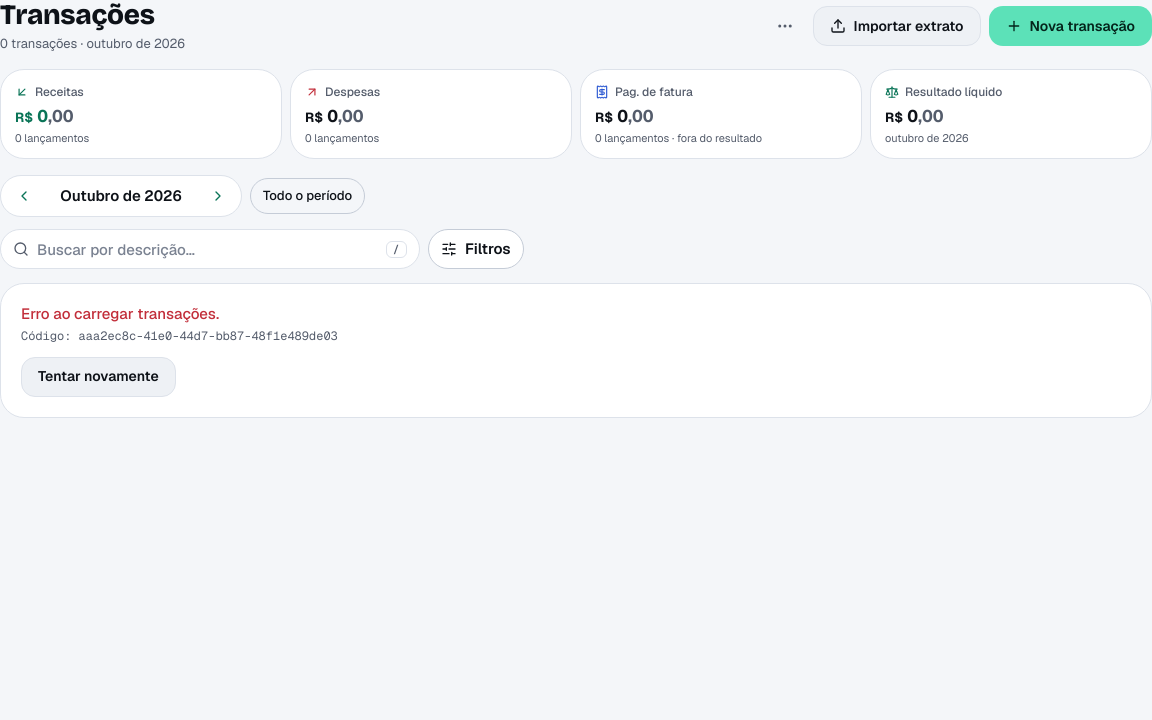
Test case: TransactionsPage › create transaction form shows required description validation error
The width and height of the screenshot is (1152, 720).
Click the button "Nova transação" at (1070, 26), box [988,6,1151,46]
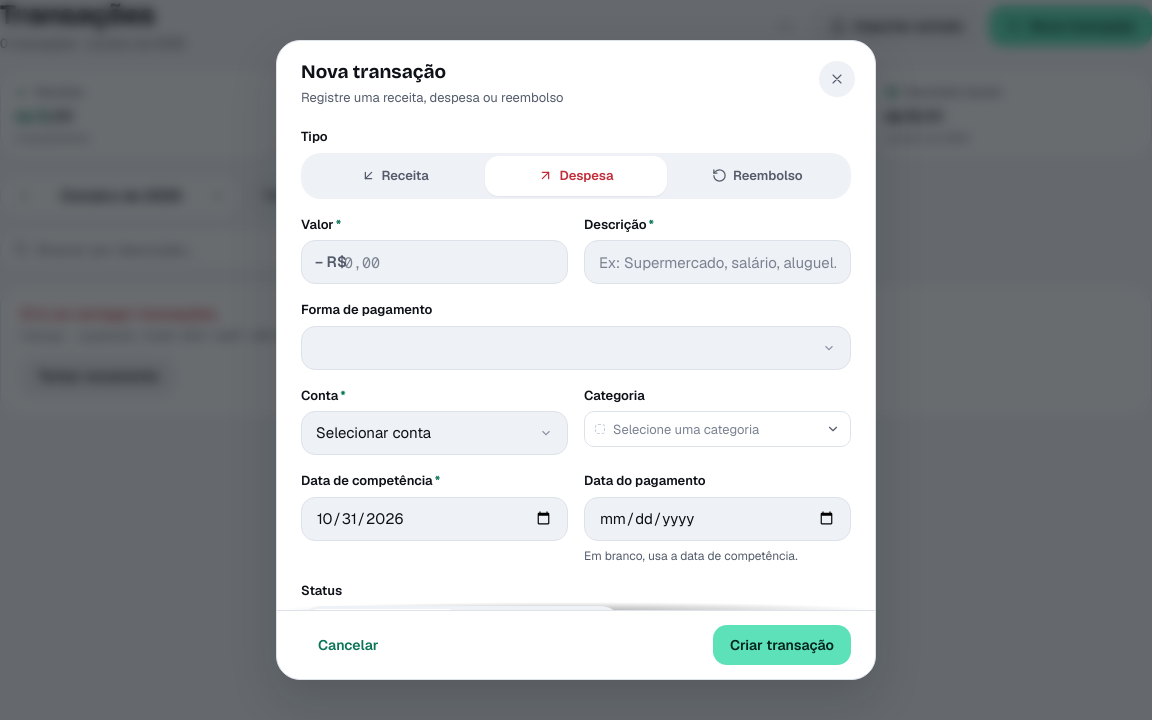
Check: the dialog is shown, box [276,40,876,680]
Clear the field labelled "Descrição*" at (718, 262), box [584,240,851,284]
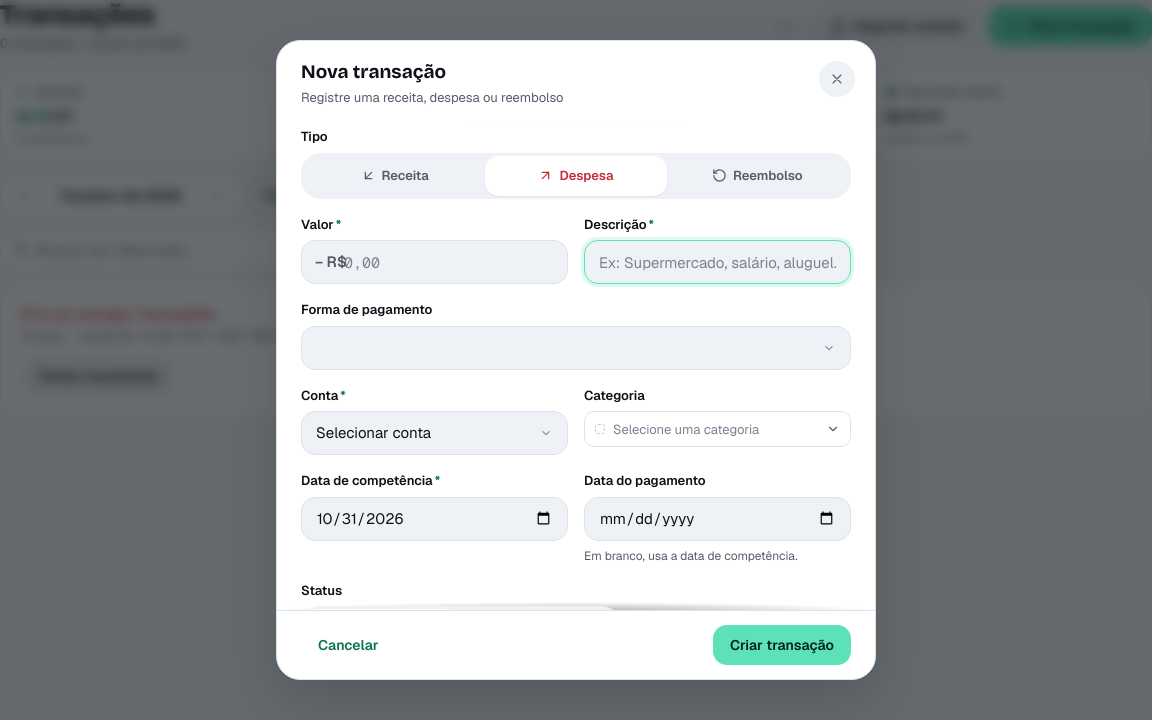
Click the button "Criar transação" at (782, 645), box [713,625,851,665]
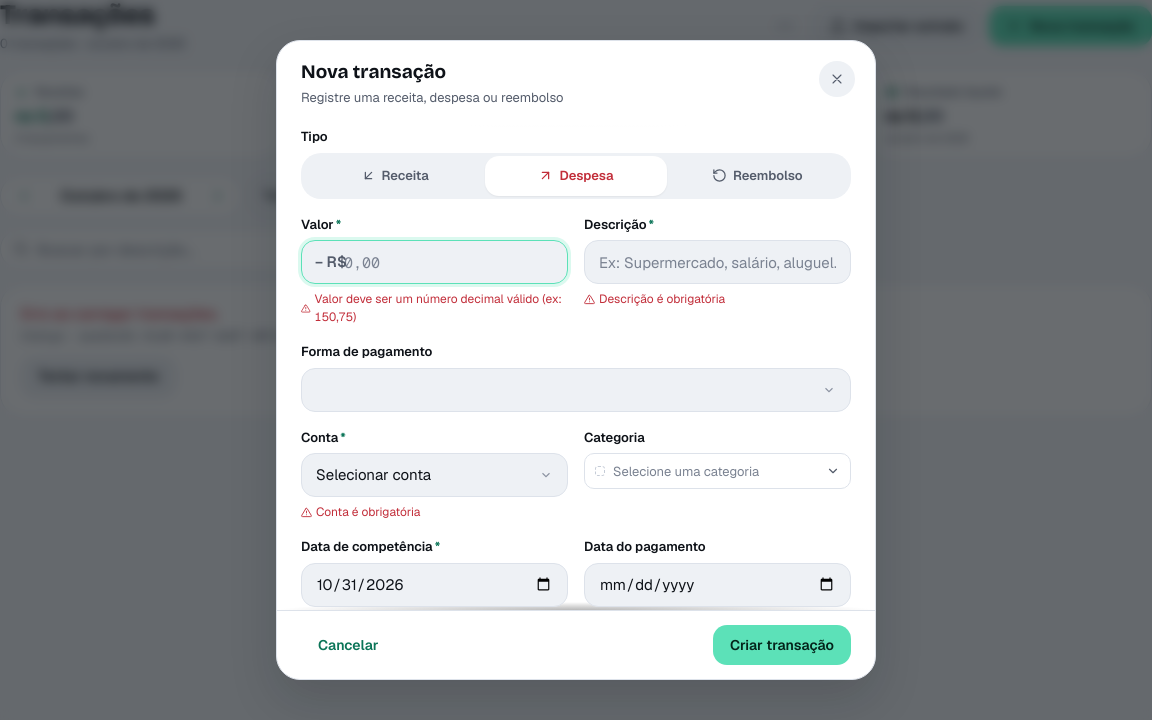
Check: the text "Descrição é obrigatória" is shown, box [584,291,725,307]
